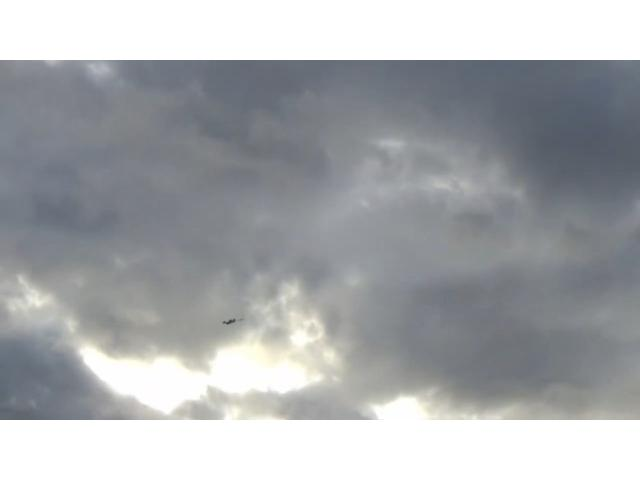Anti-Drone: (221, 318, 245, 326)
